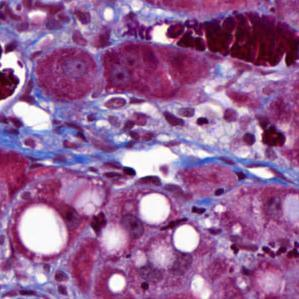inflammation: (241, 115, 288, 150), (87, 209, 110, 242)
